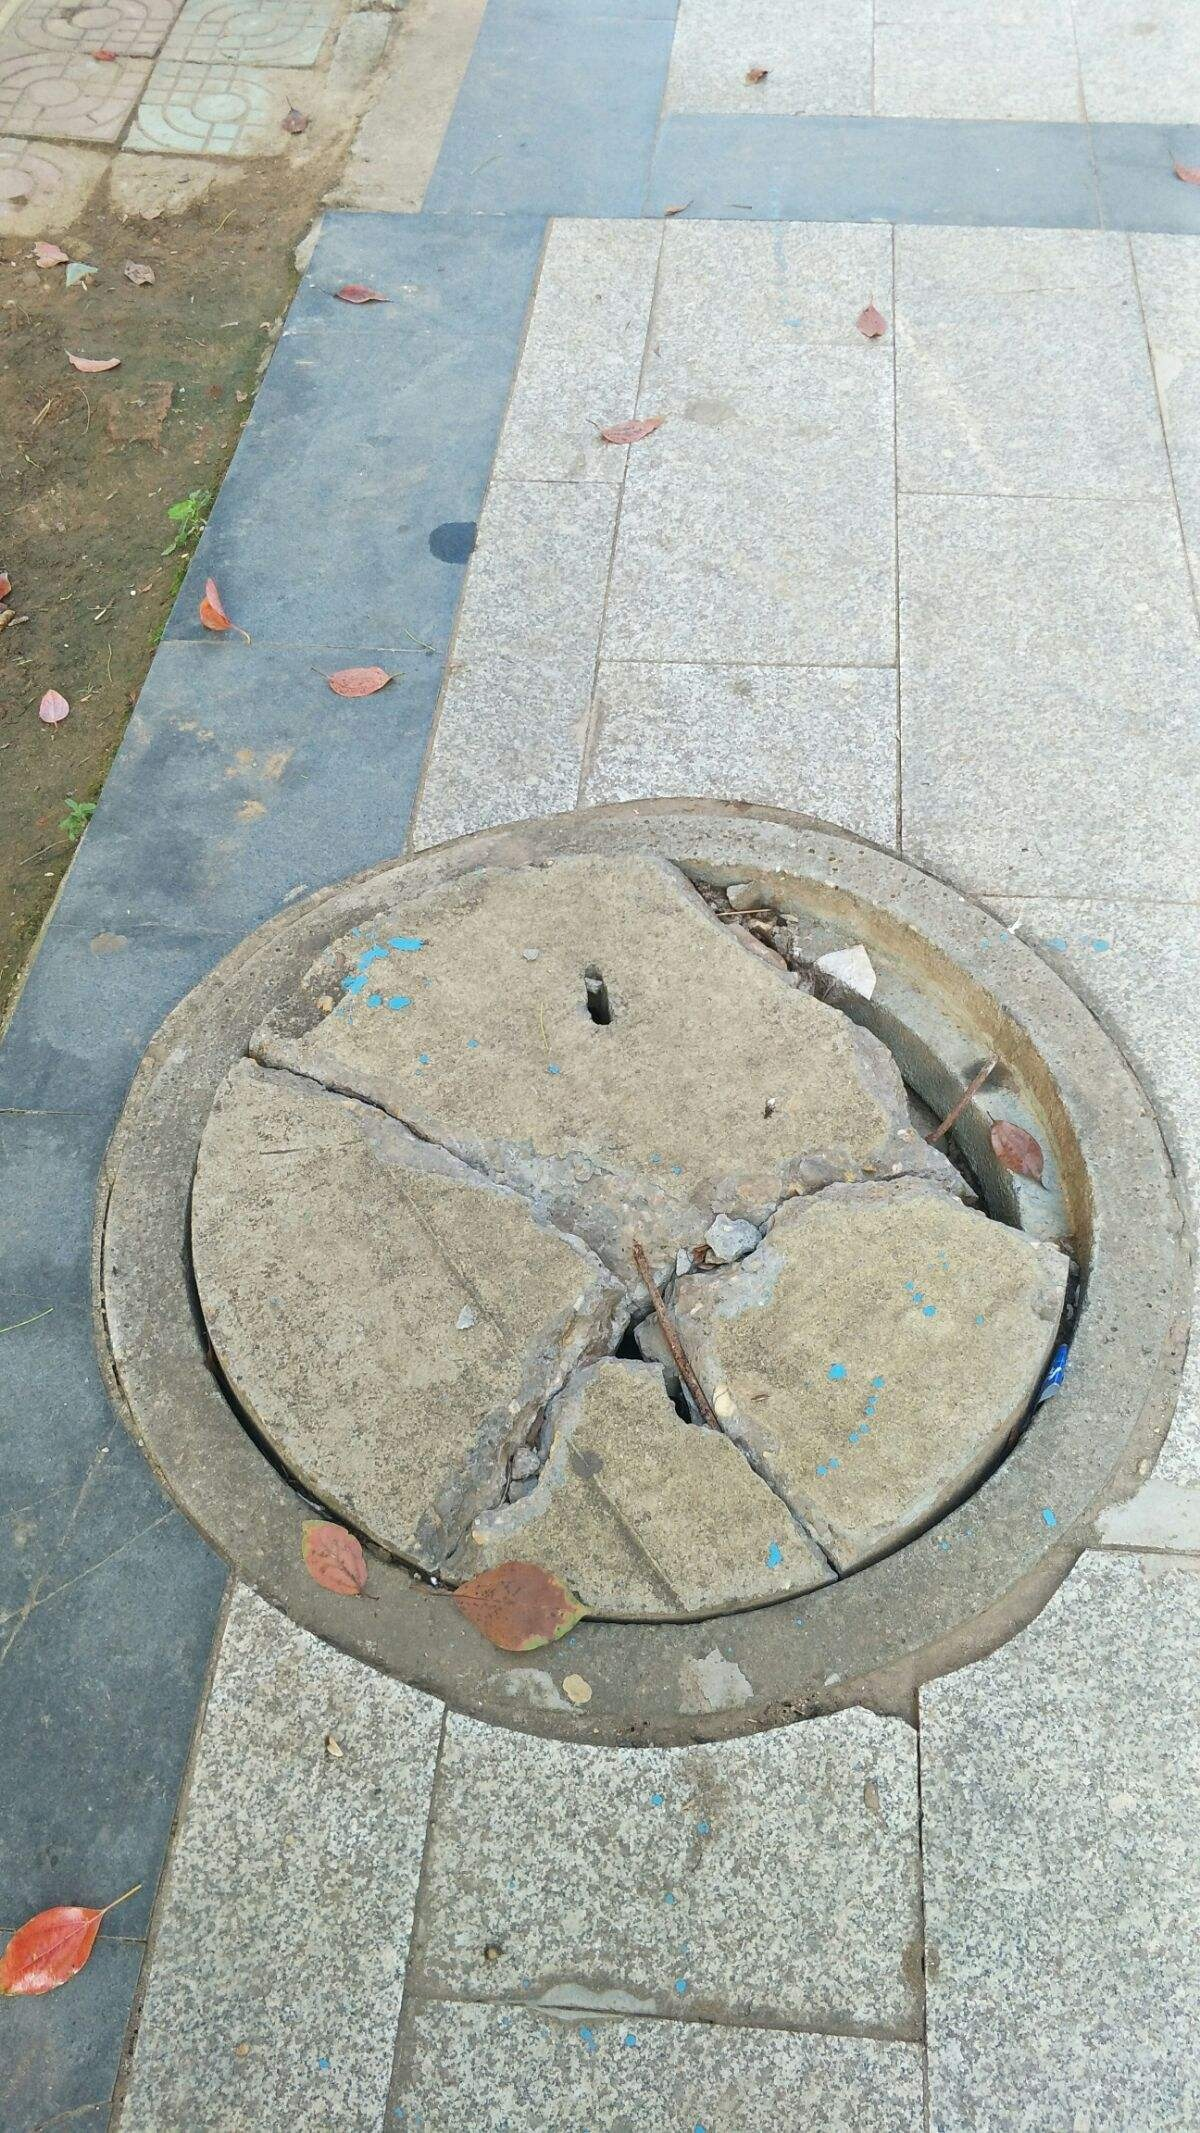broke: (101, 801, 1191, 1758)
